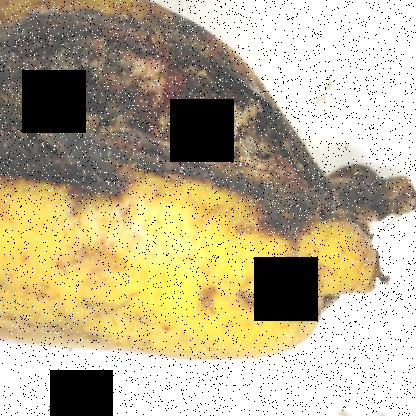rotten: (0, 1, 410, 361)
